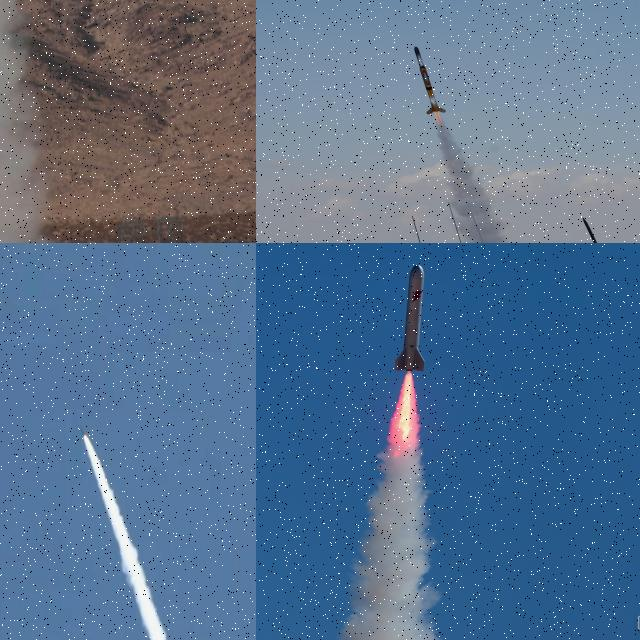Rocket: (389, 258, 434, 374), (414, 46, 446, 115), (80, 427, 86, 436)
